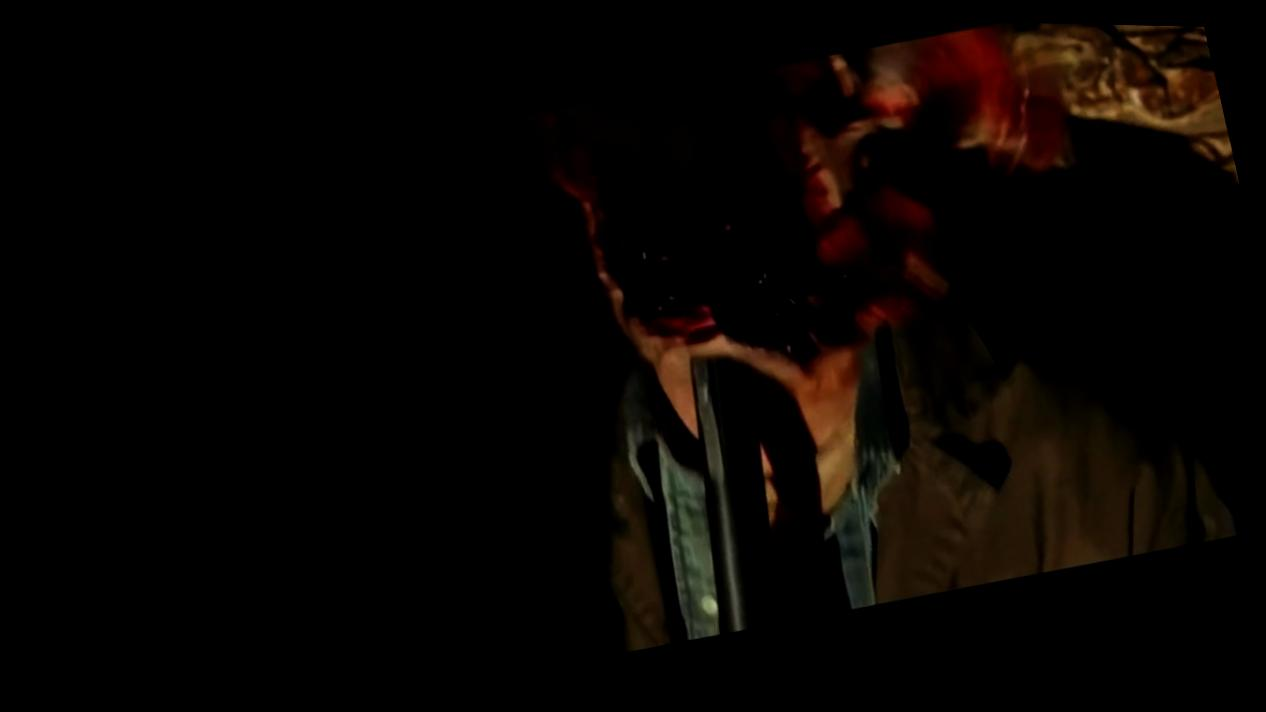Fire: (544, 21, 1075, 357)
